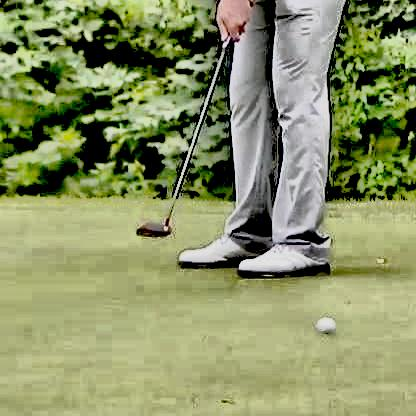golfball: (314, 314, 333, 331)
